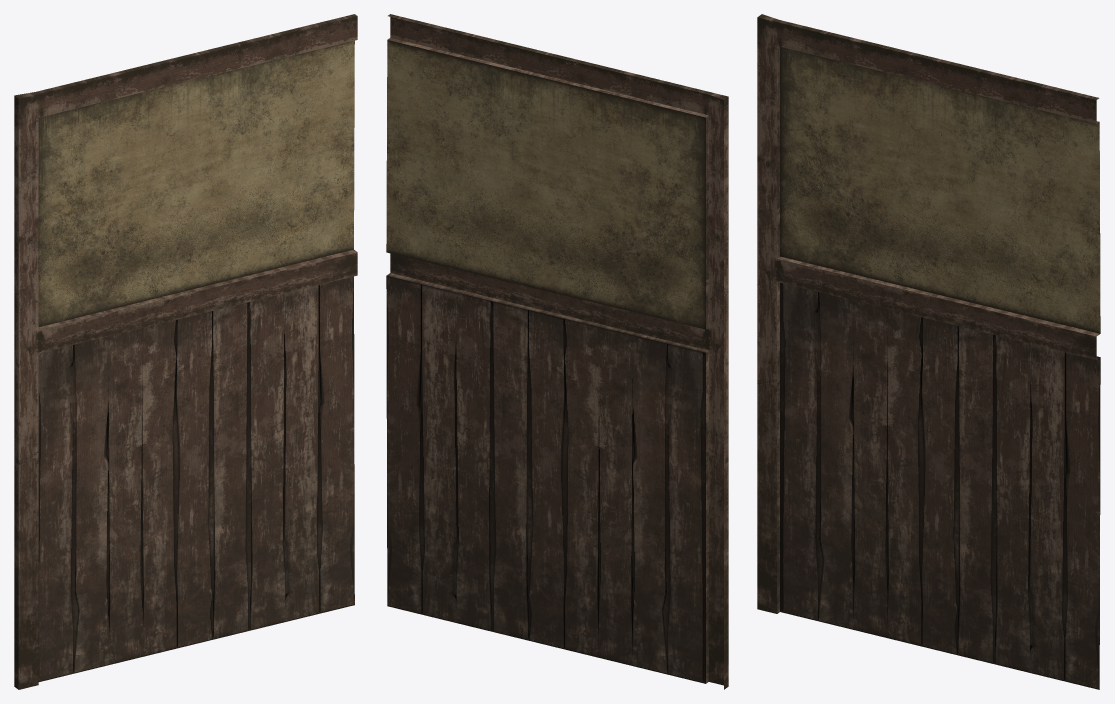
The model's file is Wall_Low.fbx.
3 views of the same model, side by side, from view 1: azimuth 30°, elevation 25°; view 2: azimuth 150°, elevation 25°; view 3: azimuth 330°, elevation 25° (orthographic).
Visible parts, largest first — view 1: Wall; view 2: Wall; view 3: Wall.
Part boxes in pixels (x1=…): Wall: x1=14, y1=14, x2=357, y2=689; Wall: x1=386, y1=14, x2=728, y2=689; Wall: x1=757, y1=14, x2=1100, y2=689.
Size of the model in its own units: 3 by 5 by 0.07.
2 materials, 2 textured.
